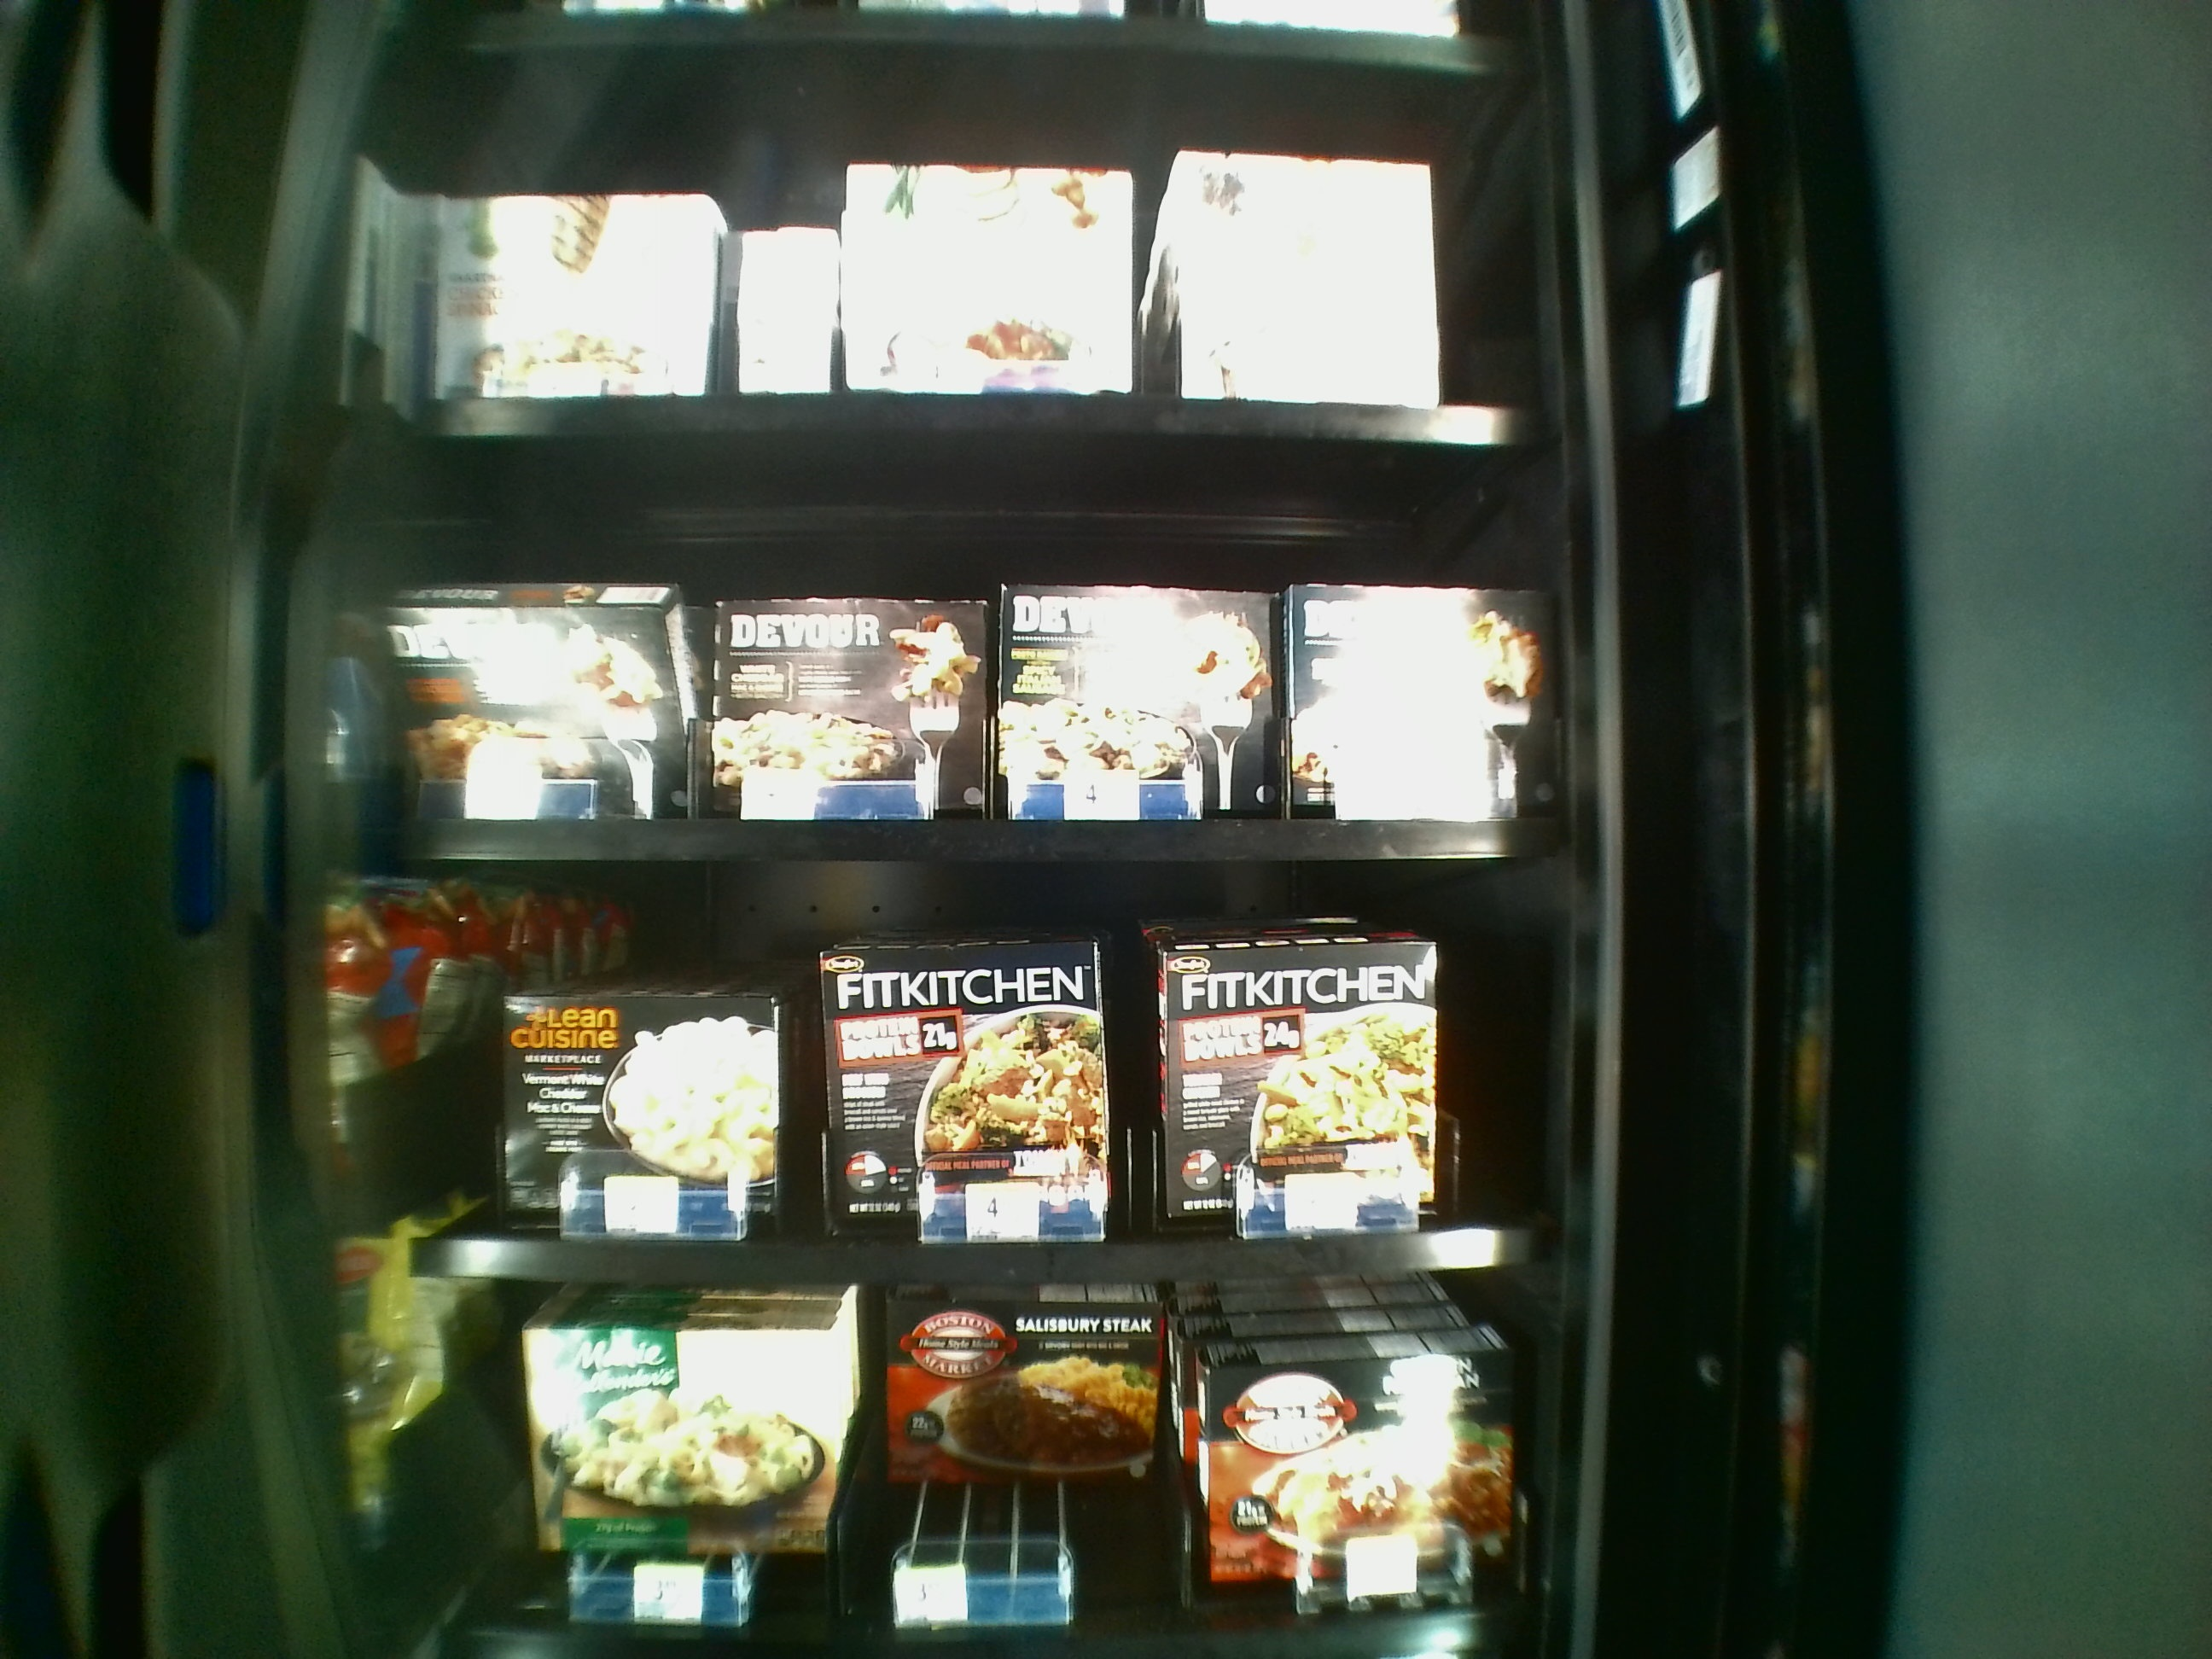shelf: (371, 441, 1561, 864), (350, 877, 1575, 1279)
